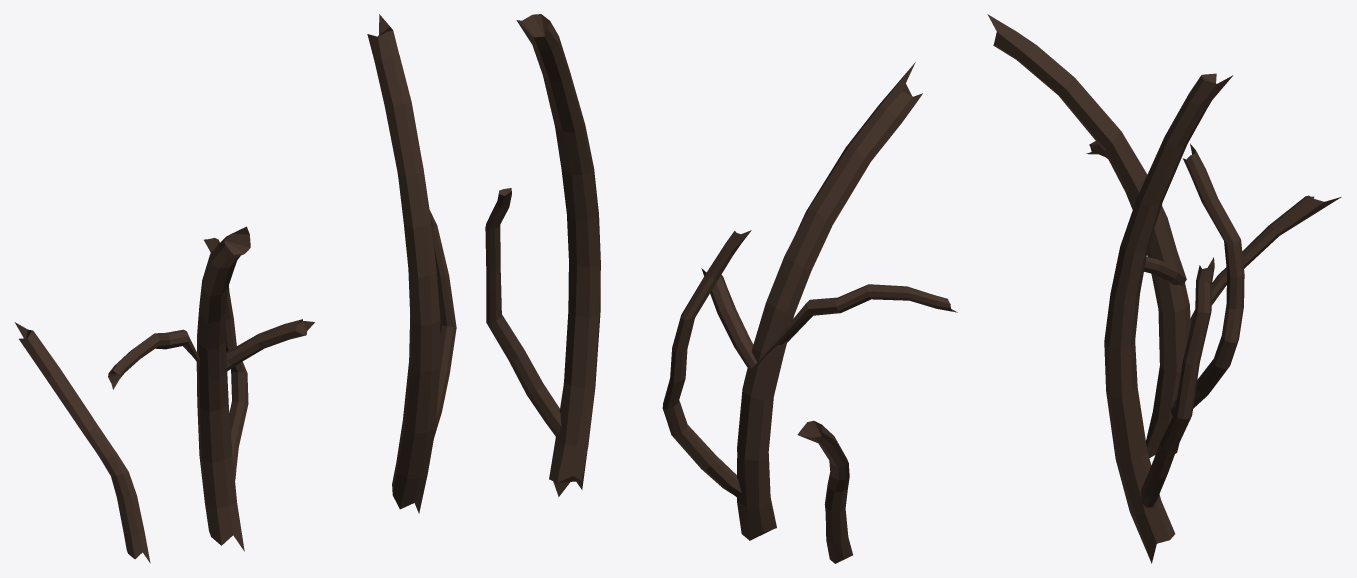
File: branches.fbx
3 renders of one model, left to right at view 1: azimuth 30°, elevation 25°; view 2: azimuth 150°, elevation 25°; view 3: azimuth 270°, elevation 25°, orthographic. The views are drawn at different scales.
Parts seen in each view (by area): view 1: branch1, branch2, branch3; view 2: branch2, branch1, branch3; view 3: branch1, branch2, branch3.
Boxes of the visible parts, left/top/right/bottom form: branch1: left=367, top=14, right=456, bottom=513; branch2: left=108, top=226, right=314, bottom=551; branch3: left=14, top=322, right=150, bottom=563; branch2: left=662, top=62, right=957, bottom=540; branch1: left=485, top=14, right=600, bottom=496; branch3: left=797, top=420, right=852, bottom=563; branch1: left=1104, top=73, right=1233, bottom=563; branch2: left=987, top=14, right=1244, bottom=457; branch3: left=1190, top=195, right=1341, bottom=325.
Size of the model in its own units: 2619 by 3026 by 1992.
